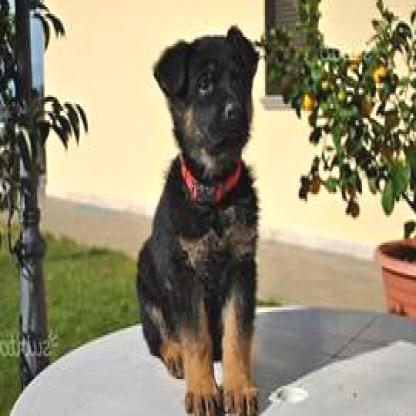dog: (134, 25, 259, 414)
